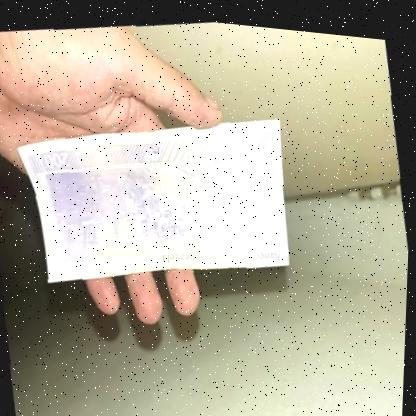two_hundred-back-vef: (10, 90, 302, 305)
